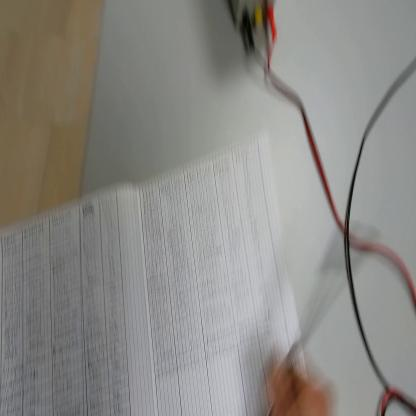hand: (268, 348, 332, 416)
power supply: (228, 1, 276, 31)
register: (1, 116, 302, 416)
